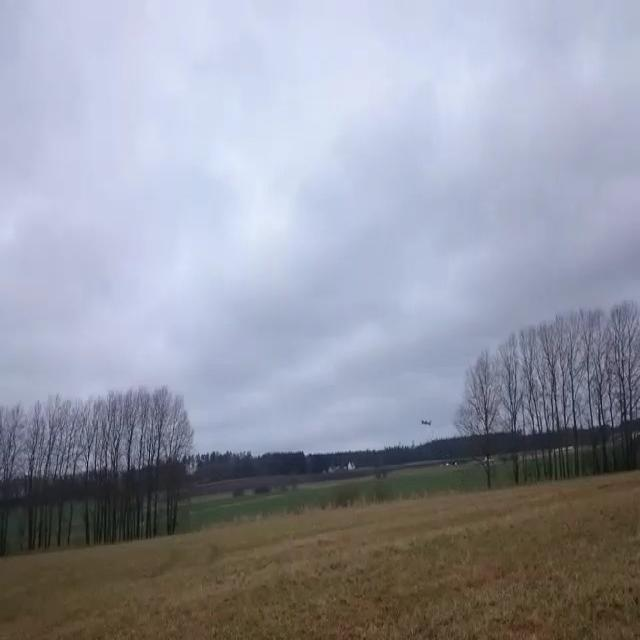drone: (421, 419, 432, 427)
